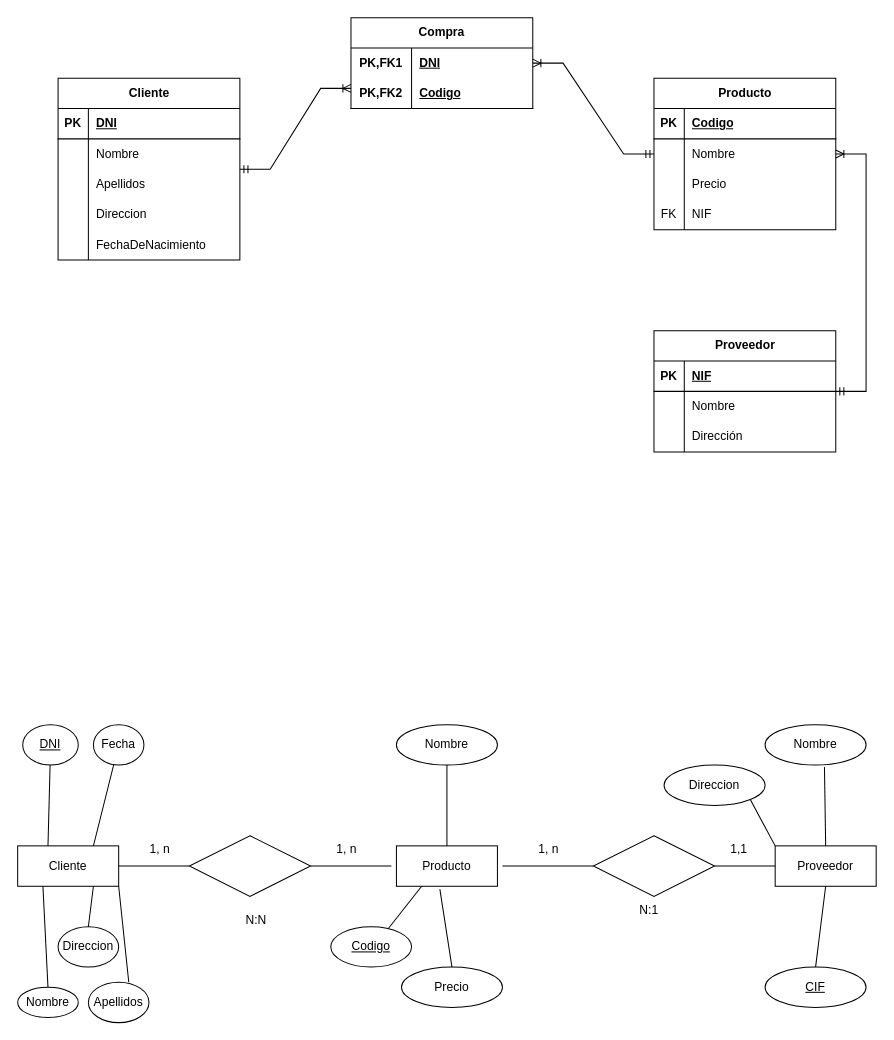
Some shapes in this 894 by 1040 pixel diagram are drawn without their labels. Each missing label, with the centre of its shape:
Compra/Venta: [249,865]
Distribuye: [653,865]
